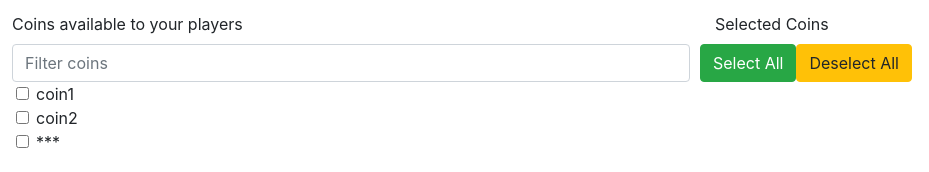
Test: Filter an invalid coin
In the field with placeholder "Filter coins": (351, 63) [12,44,690,82], type "INVALID_COIN_X"
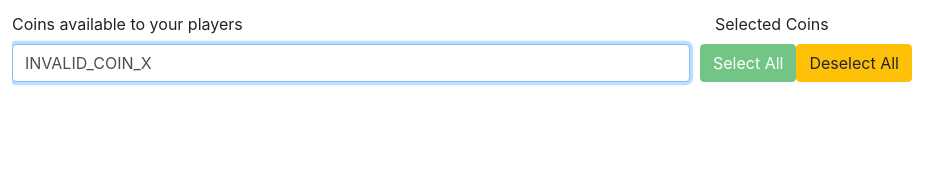
expect no checkboxes with placeholder "available-coin" are shown: met
